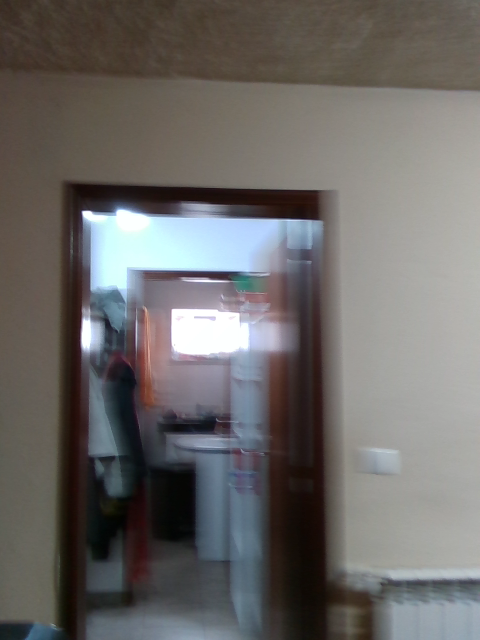open: (66, 189, 333, 639)
